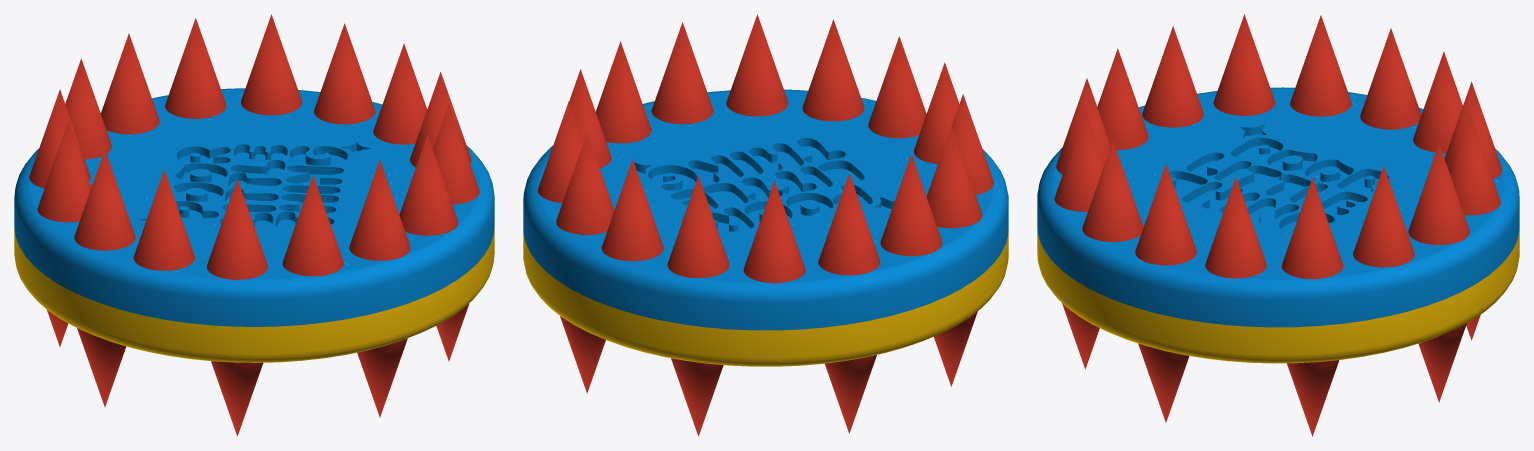
Rendered from double-sided-spike-cap.glb.
3 renders of one model, left to right at view 1: azimuth 30°, elevation 25°; view 2: azimuth 150°, elevation 25°; view 3: azimuth 270°, elevation 25°, orthographic.
Parts seen in each view (by area): view 1: double-sided-spike-cap-part-001, double-sided-spike-cap-part-002, double-sided-spike-cap-part-018, double-sided-spike-cap-part-009, double-sided-spike-cap-part-012, double-sided-spike-cap-part-013, double-sided-spike-cap-part-003, double-sided-spike-cap-part-010, double-sided-spike-cap-part-004, double-sided-spike-cap-part-011, double-sided-spike-cap-part-005, double-sided-spike-cap-part-014 (+10 smaller); view 2: double-sided-spike-cap-part-001, double-sided-spike-cap-part-002, double-sided-spike-cap-part-007, double-sided-spike-cap-part-014, double-sided-spike-cap-part-004, double-sided-spike-cap-part-006, double-sided-spike-cap-part-008, double-sided-spike-cap-part-005, double-sided-spike-cap-part-015, double-sided-spike-cap-part-013, double-sided-spike-cap-part-012, double-sided-spike-cap-part-003 (+10 smaller); view 3: double-sided-spike-cap-part-001, double-sided-spike-cap-part-002, double-sided-spike-cap-part-015, double-sided-spike-cap-part-018, double-sided-spike-cap-part-008, double-sided-spike-cap-part-016, double-sided-spike-cap-part-010, double-sided-spike-cap-part-017, double-sided-spike-cap-part-009, double-sided-spike-cap-part-007, double-sided-spike-cap-part-003, double-sided-spike-cap-part-014 (+10 smaller).
Part boxes in pixels (x1,y1,x2,y2): double-sided-spike-cap-part-001: [14, 88, 494, 326]; double-sided-spike-cap-part-002: [14, 227, 494, 362]; double-sided-spike-cap-part-018: [314, 23, 375, 124]; double-sided-spike-cap-part-009: [74, 150, 135, 250]; double-sided-spike-cap-part-012: [282, 175, 343, 276]; double-sided-spike-cap-part-013: [349, 160, 410, 260]; double-sided-spike-cap-part-003: [241, 14, 301, 115]; double-sided-spike-cap-part-010: [133, 170, 194, 270]; double-sided-spike-cap-part-004: [165, 18, 226, 118]; double-sided-spike-cap-part-011: [207, 178, 267, 279]; double-sided-spike-cap-part-005: [101, 33, 159, 134]; double-sided-spike-cap-part-014: [399, 134, 458, 235]; double-sided-spike-cap-part-001: [523, 89, 1008, 330]; double-sided-spike-cap-part-002: [523, 231, 1008, 366]; double-sided-spike-cap-part-007: [818, 173, 880, 275]; double-sided-spike-cap-part-014: [726, 14, 788, 116]; double-sided-spike-cap-part-004: [601, 159, 663, 261]; double-sided-spike-cap-part-006: [743, 181, 805, 283]; double-sided-spike-cap-part-008: [880, 154, 942, 255]; double-sided-spike-cap-part-005: [667, 176, 729, 277]; double-sided-spike-cap-part-015: [651, 22, 713, 124]; double-sided-spike-cap-part-013: [802, 19, 864, 121]; double-sided-spike-cap-part-012: [868, 36, 926, 138]; double-sided-spike-cap-part-003: [556, 133, 614, 234]; double-sided-spike-cap-part-001: [1037, 87, 1519, 327]; double-sided-spike-cap-part-002: [1037, 228, 1519, 363]; double-sided-spike-cap-part-015: [1135, 164, 1196, 265]; double-sided-spike-cap-part-018: [1353, 166, 1414, 267]; double-sided-spike-cap-part-008: [1290, 15, 1351, 116]; double-sided-spike-cap-part-016: [1205, 177, 1266, 278]; double-sided-spike-cap-part-010: [1142, 26, 1203, 127]; double-sided-spike-cap-part-017: [1281, 177, 1343, 279]; double-sided-spike-cap-part-009: [1213, 14, 1275, 115]; double-sided-spike-cap-part-007: [1360, 28, 1421, 129]; double-sided-spike-cap-part-003: [1408, 143, 1469, 244]; double-sided-spike-cap-part-014: [1082, 140, 1143, 241].
Size of the model in its own units: 3 by 1.78 by 3.
